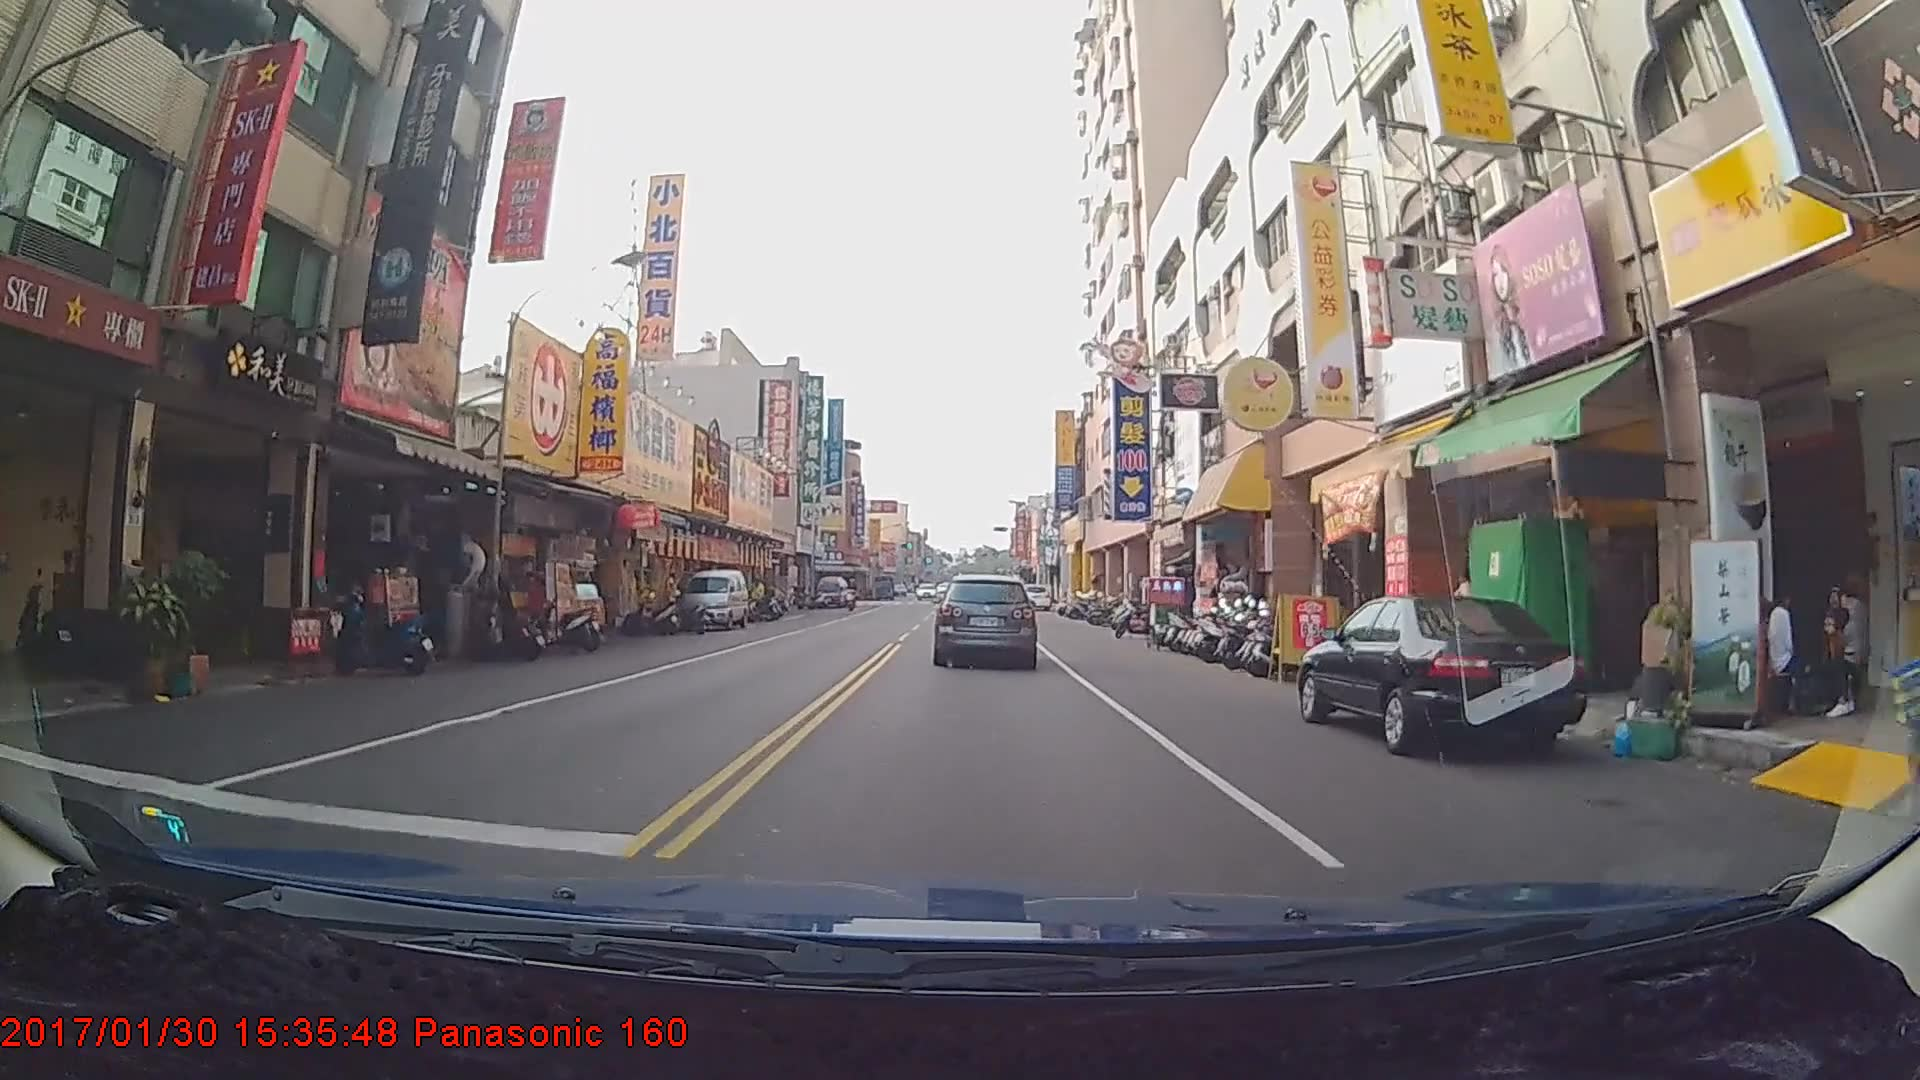pedestrian: (1765, 580, 1819, 715), (1824, 577, 1873, 721)
vehicle: (1296, 591, 1582, 755), (935, 574, 1036, 667), (677, 568, 747, 630), (815, 570, 845, 605), (1018, 576, 1050, 604)
